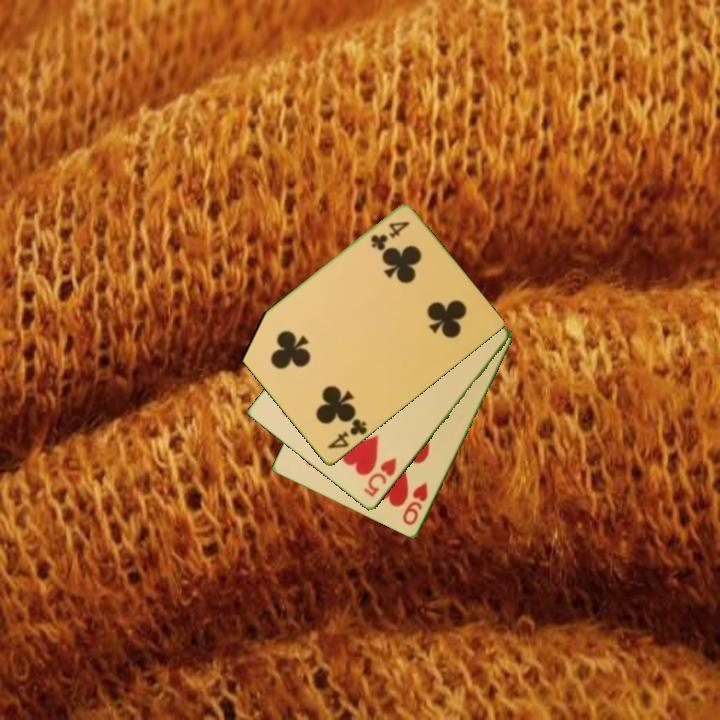4c: (324, 415, 370, 452), (367, 218, 413, 253)
5h: (360, 454, 400, 500)
9h: (399, 479, 431, 529)
